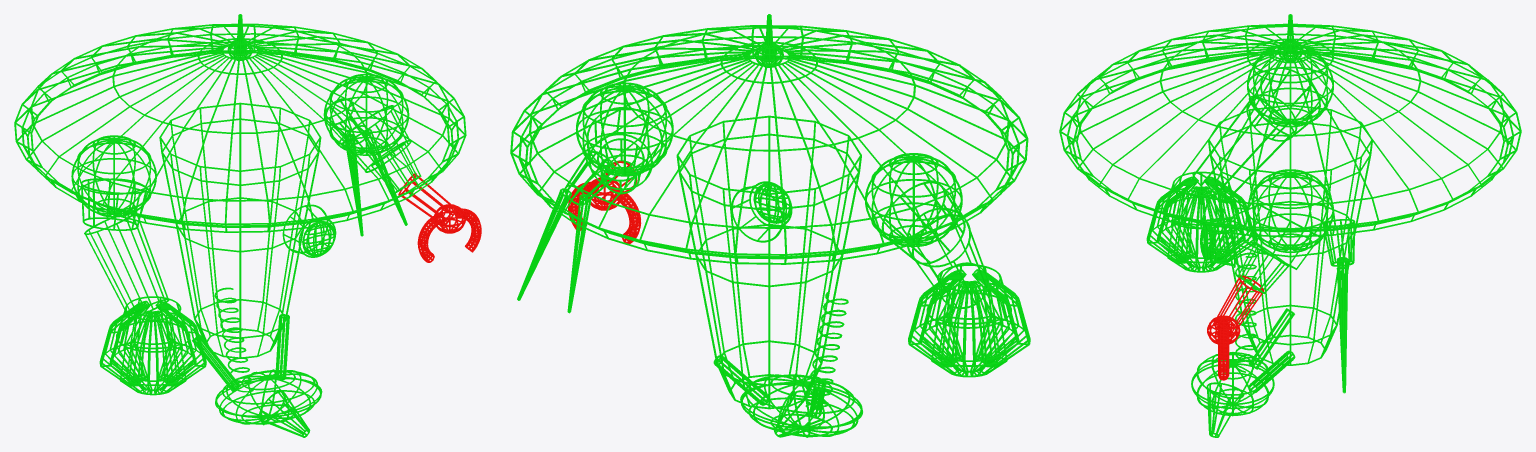
Rendered from construction-droids-highlight-light-manipulator.glb.
The picture shows the model from 3 angles, left to right: view 1: azimuth 30°, elevation 25°; view 2: azimuth 150°, elevation 25°; view 3: azimuth 270°, elevation 25°; orthographic projection. The views are drawn at different scales.
Parts seen in each view (by area): view 1: chassis technical wire, heavy-manipulator technical wire, spot-welder technical wire, light-manipulator technical wire, laser-solder-tool technical wire, optical-sensor technical wire; view 2: chassis technical wire, heavy-manipulator technical wire, spot-welder technical wire, laser-solder-tool technical wire, light-manipulator technical wire, optical-sensor technical wire; view 3: chassis technical wire, heavy-manipulator technical wire, spot-welder technical wire, light-manipulator technical wire, laser-solder-tool technical wire, optical-sensor technical wire.
Part boxes in pixels (bbox=[...]): chassis technical wire: bbox=[14, 14, 466, 391]; heavy-manipulator technical wire: bbox=[99, 296, 206, 395]; spot-welder technical wire: bbox=[214, 287, 322, 437]; light-manipulator technical wire: bbox=[398, 173, 481, 262]; laser-solder-tool technical wire: bbox=[325, 98, 407, 236]; optical-sensor technical wire: bbox=[282, 204, 336, 257]; chassis technical wire: bbox=[510, 14, 1028, 418]; heavy-manipulator technical wire: bbox=[908, 264, 1030, 377]; spot-welder technical wire: bbox=[740, 292, 862, 437]; laser-solder-tool technical wire: bbox=[517, 151, 616, 313]; light-manipulator technical wire: bbox=[568, 161, 641, 243]; optical-sensor technical wire: bbox=[731, 181, 792, 242]; chassis technical wire: bbox=[1059, 14, 1521, 393]; heavy-manipulator technical wire: bbox=[1146, 171, 1255, 272]; spot-welder technical wire: bbox=[1191, 252, 1274, 437]; light-manipulator technical wire: bbox=[1207, 275, 1264, 380]; laser-solder-tool technical wire: bbox=[1322, 219, 1355, 393]; optical-sensor technical wire: bbox=[1200, 214, 1235, 267].
Bounding box in the file's own units: 2.56 × 2.44 × 2.49.
